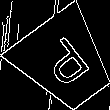P_SE: (34, 31, 96, 93)
